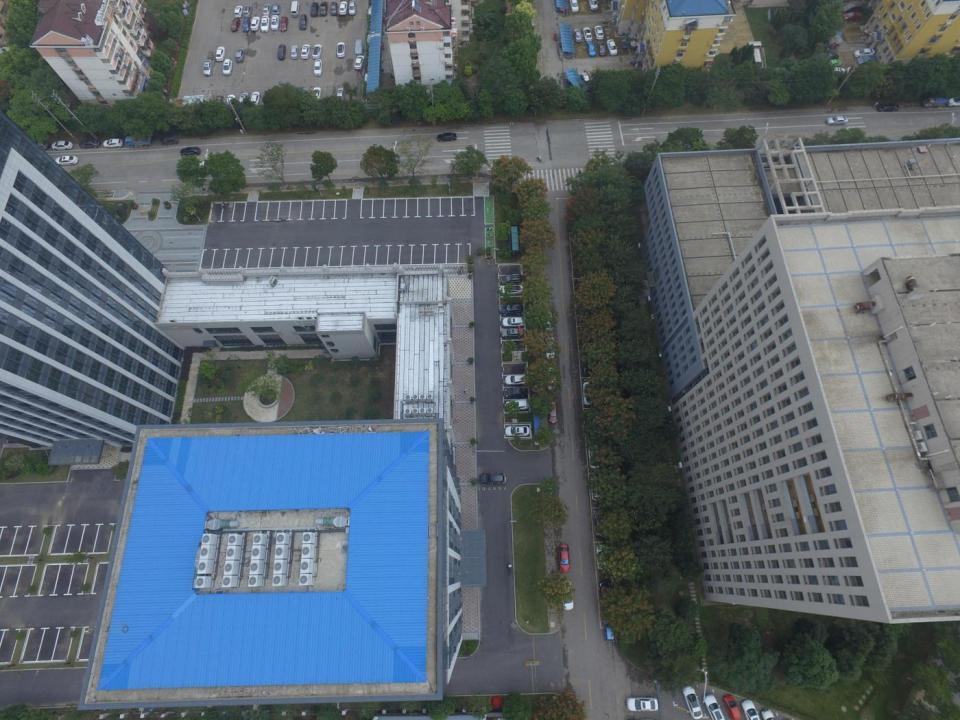car: (682, 686, 704, 718), (703, 693, 727, 720), (592, 508, 612, 538), (625, 696, 658, 712), (591, 471, 608, 502), (724, 694, 744, 720), (740, 698, 761, 720), (560, 579, 574, 611), (596, 543, 612, 571), (586, 410, 602, 438), (598, 582, 614, 609), (587, 442, 601, 470), (479, 472, 506, 485), (580, 353, 594, 377), (559, 543, 570, 573), (582, 381, 595, 406), (504, 424, 529, 437), (602, 617, 614, 642), (504, 399, 528, 411), (500, 327, 524, 339), (501, 316, 525, 328), (505, 373, 528, 385), (499, 304, 524, 315), (545, 336, 556, 360), (545, 367, 556, 391), (499, 284, 523, 295), (504, 387, 527, 398), (826, 115, 848, 126), (548, 400, 558, 423), (853, 48, 875, 58), (856, 55, 878, 65), (50, 140, 72, 150), (103, 138, 123, 149), (188, 161, 208, 172), (876, 103, 900, 112), (843, 11, 864, 21), (180, 147, 201, 157), (500, 274, 523, 283), (55, 156, 78, 165), (606, 39, 618, 56), (436, 132, 456, 142), (79, 140, 101, 149), (222, 58, 233, 76), (544, 311, 553, 331), (202, 59, 212, 77), (215, 46, 226, 62), (235, 47, 246, 63), (251, 91, 261, 107), (300, 44, 310, 60), (585, 42, 596, 56), (225, 94, 236, 108), (260, 15, 269, 32), (594, 25, 604, 40), (312, 44, 322, 59), (250, 16, 260, 31), (354, 55, 364, 70), (597, 40, 606, 56), (824, 59, 842, 67), (821, 52, 839, 60), (270, 15, 279, 31), (298, 14, 307, 30), (354, 39, 363, 55), (243, 4, 253, 18), (338, 1, 348, 15), (583, 27, 592, 42), (336, 87, 345, 102), (312, 86, 321, 101), (301, 87, 310, 102), (310, 2, 319, 17), (230, 18, 240, 31), (277, 44, 285, 60), (290, 44, 298, 60), (314, 60, 322, 76), (280, 16, 288, 32), (348, 0, 356, 16), (337, 42, 345, 58), (828, 68, 846, 75), (239, 92, 248, 106), (215, 95, 224, 109), (574, 28, 582, 43), (569, 0, 579, 12), (242, 17, 250, 32), (234, 5, 243, 18), (262, 4, 271, 17), (320, 2, 328, 16), (330, 1, 338, 15), (588, 0, 598, 11), (272, 4, 280, 15), (581, 74, 589, 82)
truck: (125, 134, 151, 148), (922, 97, 948, 108)
van: (161, 135, 178, 145), (31, 141, 49, 150), (291, 1, 300, 18)
